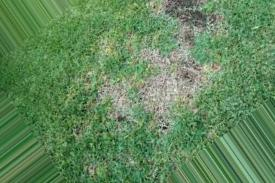patch: (182, 40, 196, 58), (158, 84, 176, 97), (117, 90, 132, 105), (179, 74, 192, 87), (160, 64, 171, 74)
